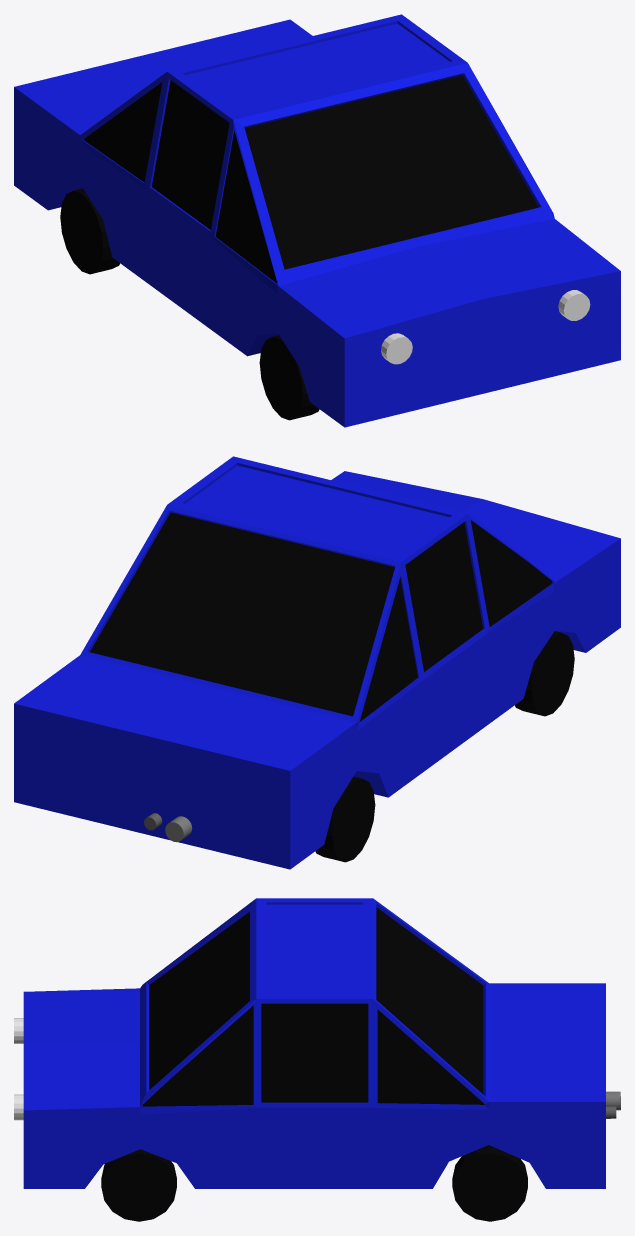
Rendered from CarBlueStage1.fbx.
The picture shows the model from 3 angles, top to bottom: view 1: azimuth 30°, elevation 25°; view 2: azimuth 150°, elevation 25°; view 3: azimuth 270°, elevation 25°; orthographic projection. The views are drawn at different scales.
Parts seen in each view (by area): view 1: Car, wheels, Headlights; view 2: Car, wheels; view 3: Car, wheels, Headlights.
Boxes of the visible parts, bbox=[...] form: Car: bbox=[14, 14, 620, 427]; wheels: bbox=[60, 188, 319, 420]; Headlights: bbox=[381, 290, 590, 364]; Car: bbox=[14, 456, 620, 869]; wheels: bbox=[315, 631, 574, 862]; Car: bbox=[23, 898, 605, 1188]; wheels: bbox=[101, 1145, 527, 1221]; Headlights: bbox=[14, 1018, 23, 1120].
Size of the model in its own units: 493 by 415 by 1063.
